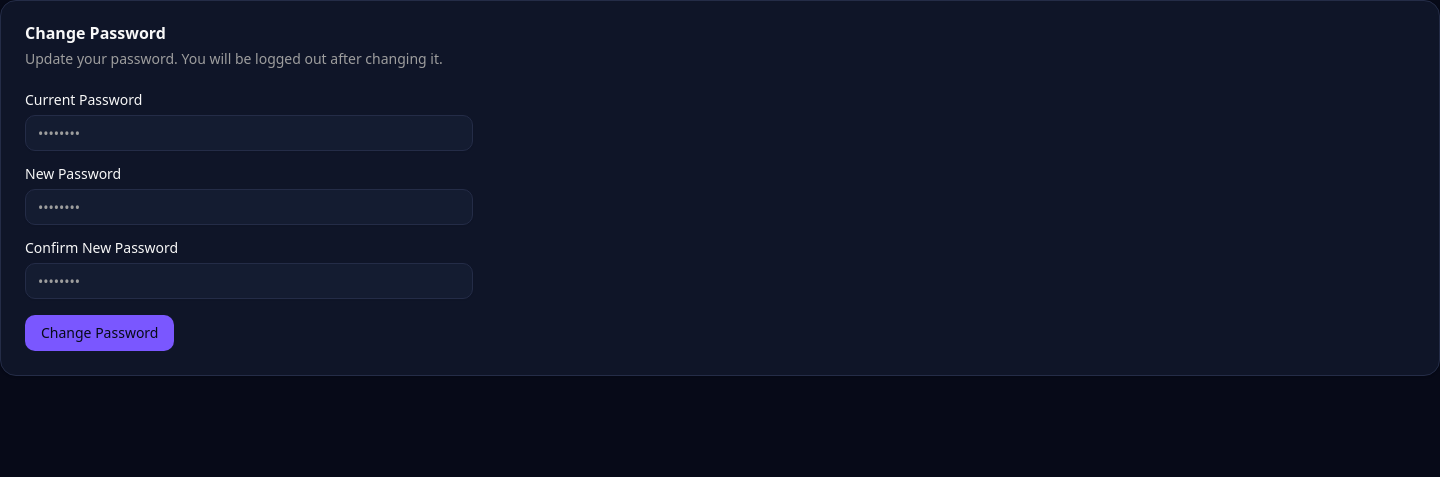
Scenario: ChangePasswordForm › shows validation errors for empty fields
Click the button "Change Password" at (100, 333), box [25,315,174,351]
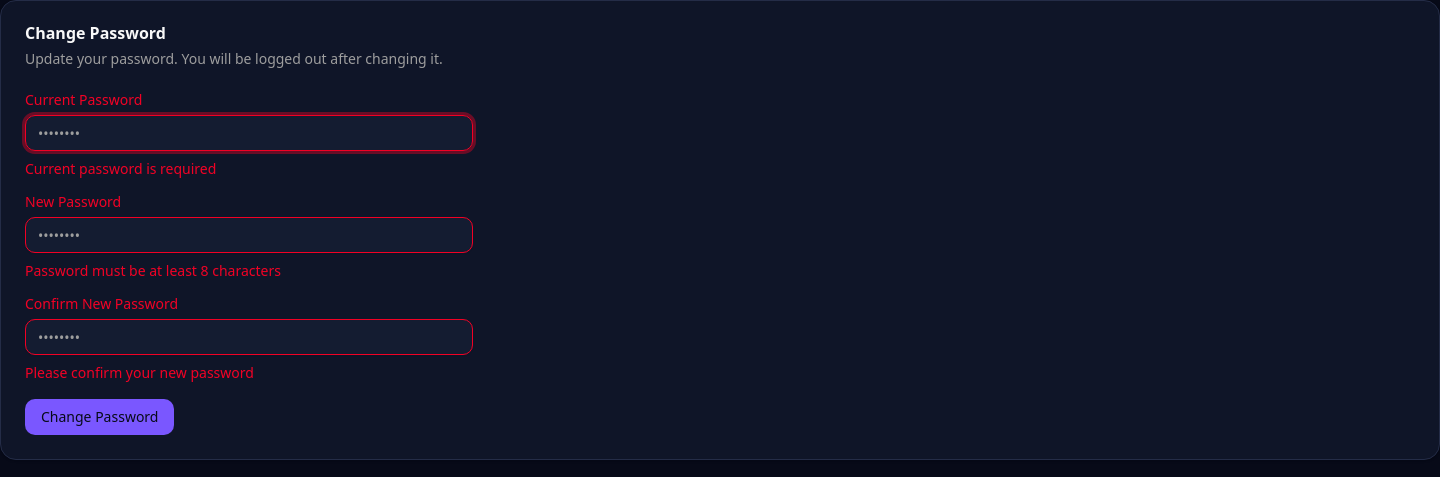
Result: the text "Current password is required" is shown at [25,159,216,178]
